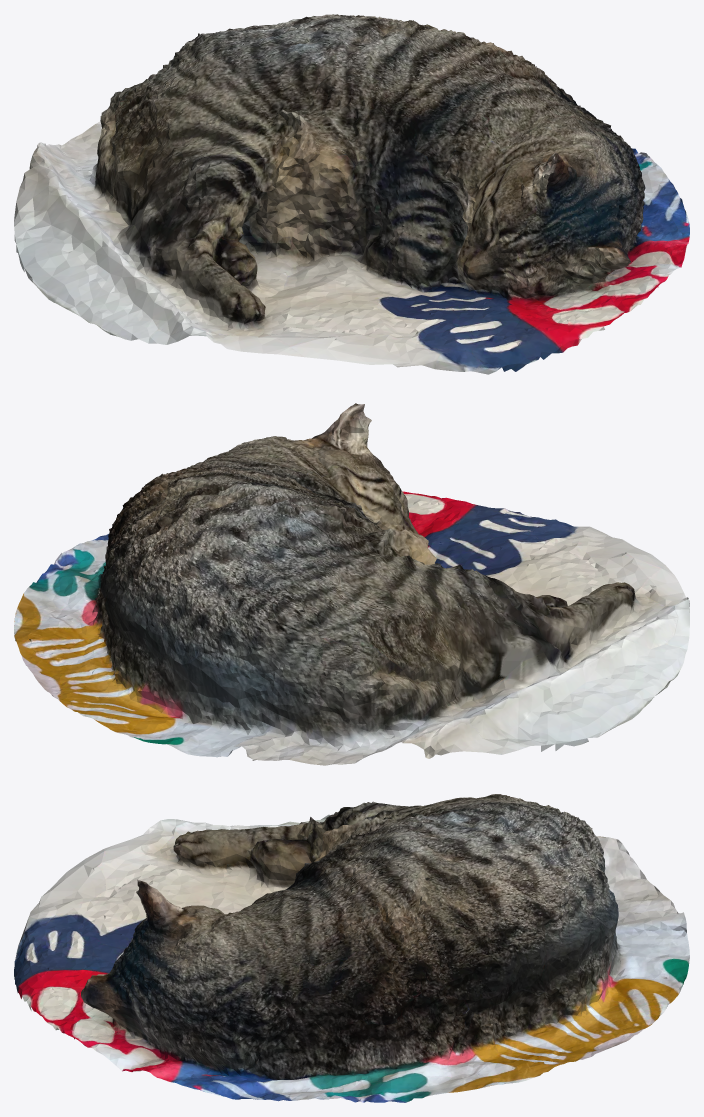
The model's file is tyson.glb.
The picture shows the model from 3 angles, top to bottom: view 1: azimuth 30°, elevation 25°; view 2: azimuth 150°, elevation 25°; view 3: azimuth 270°, elevation 25°; orthographic projection.
Bounding box in the file's own units: 0.5383 × 0.1492 × 0.5383.
1 material, 1 textured.
